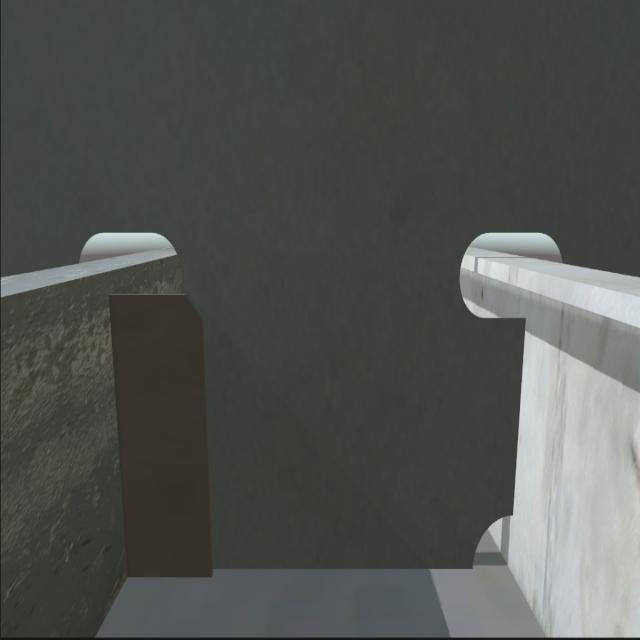fillet_hole: (470, 505, 515, 572)
fillet_yong_jeop_jang: (121, 553, 480, 581)
longi_yong_jeop_jang: (104, 291, 139, 581), (511, 314, 525, 514)
plate_CP03: (112, 297, 212, 578)
